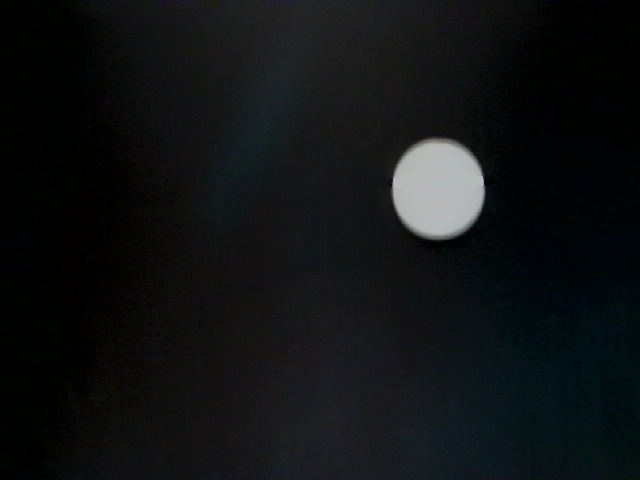QTLJ: (27, 1, 197, 142)
